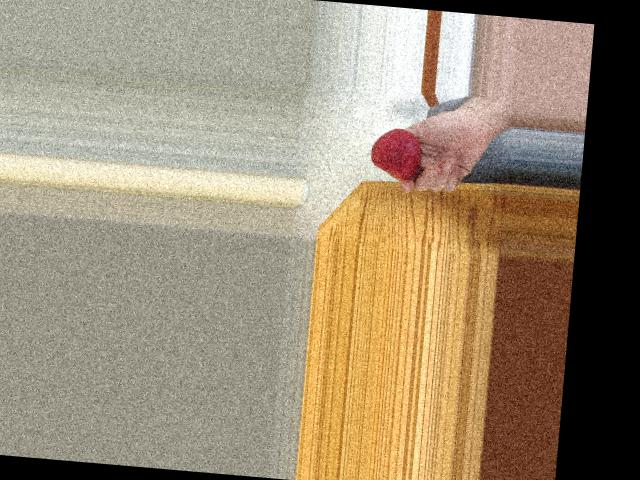apple: (366, 126, 423, 180)
